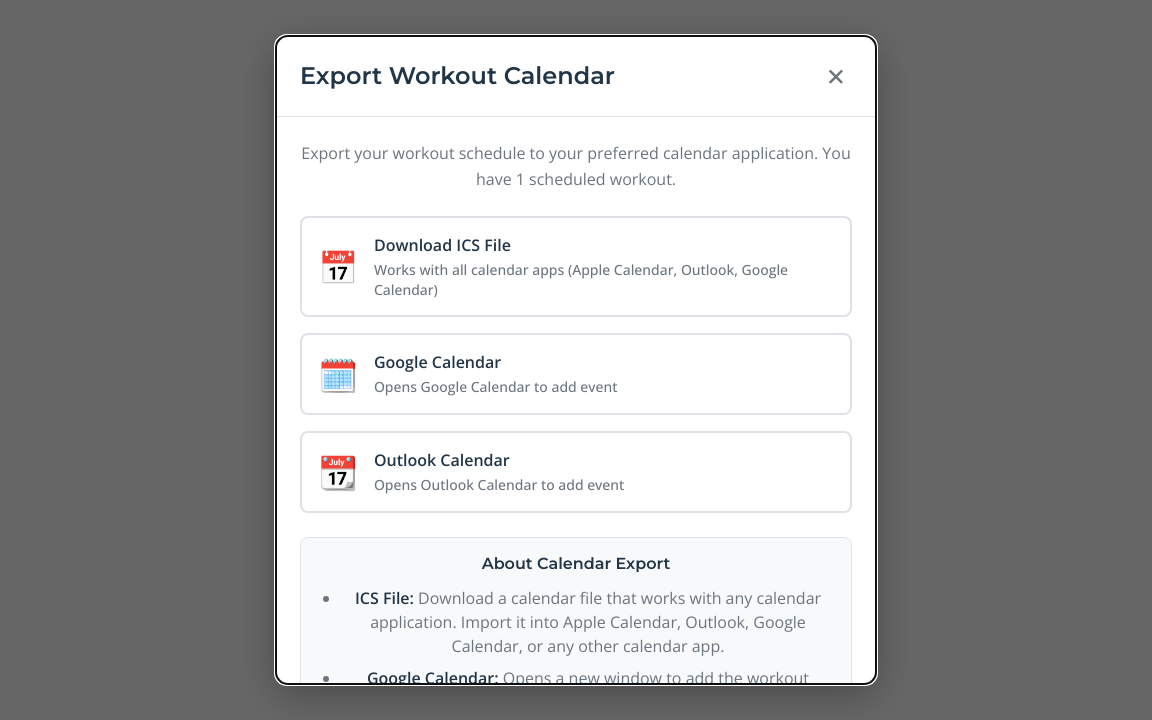
Test: CalendarExport › should open Google Calendar when Google Calendar button is clicked
The image size is (1152, 720).
Click the button "Google Calendar". click: (338, 374)
box: left=300, top=333, right=852, bottom=415
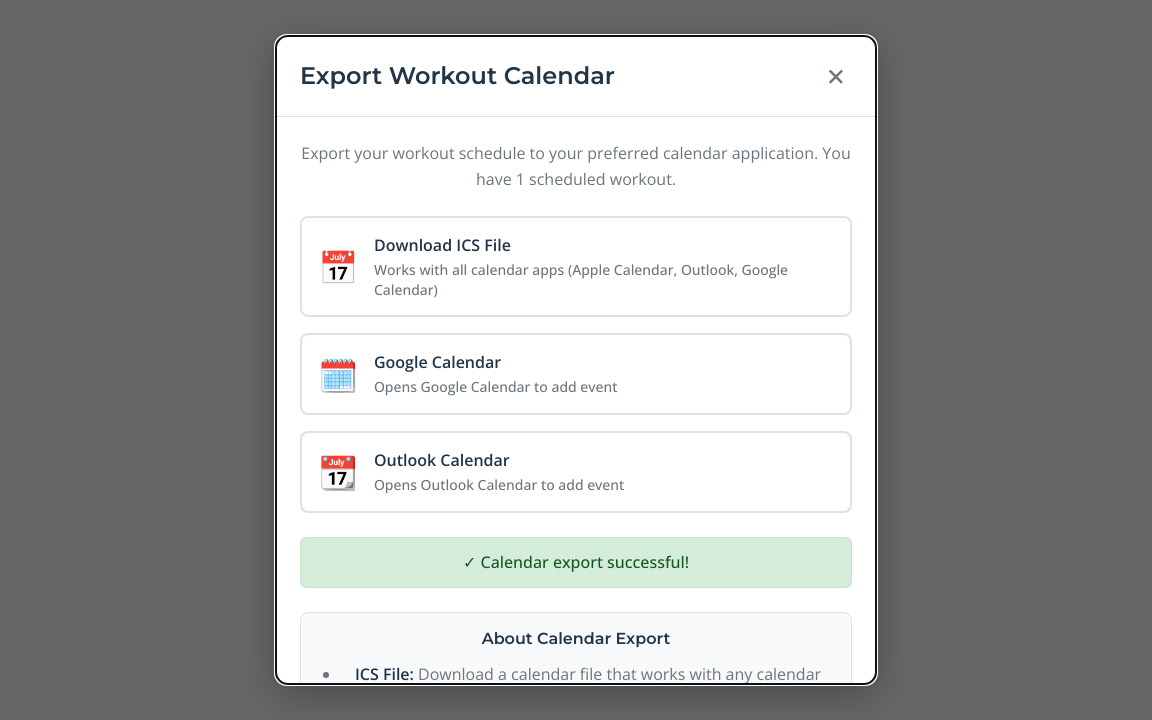
Result: the text "✓ Calendar export successful!" is shown at left=300, top=537, right=852, bottom=588
